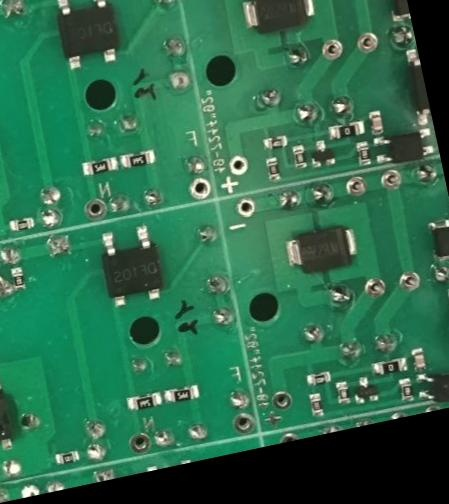chip-capacitor: (365, 108, 384, 137), (408, 346, 427, 374)
chip-resistor: (123, 389, 162, 414), (368, 356, 408, 380), (161, 382, 201, 406), (326, 119, 366, 142), (78, 155, 118, 178), (117, 148, 156, 171), (305, 390, 325, 421), (262, 156, 282, 185), (303, 368, 332, 388), (332, 378, 351, 408), (261, 133, 289, 152), (395, 375, 414, 403), (7, 265, 26, 293), (353, 140, 371, 168), (6, 216, 34, 234), (52, 449, 80, 467), (289, 144, 307, 170)
diode: (280, 222, 360, 280), (237, 0, 318, 38), (424, 217, 449, 264)
ic: (94, 222, 167, 311), (48, 0, 124, 73), (368, 125, 436, 167)
transistor: (304, 136, 337, 170), (348, 374, 379, 408)
